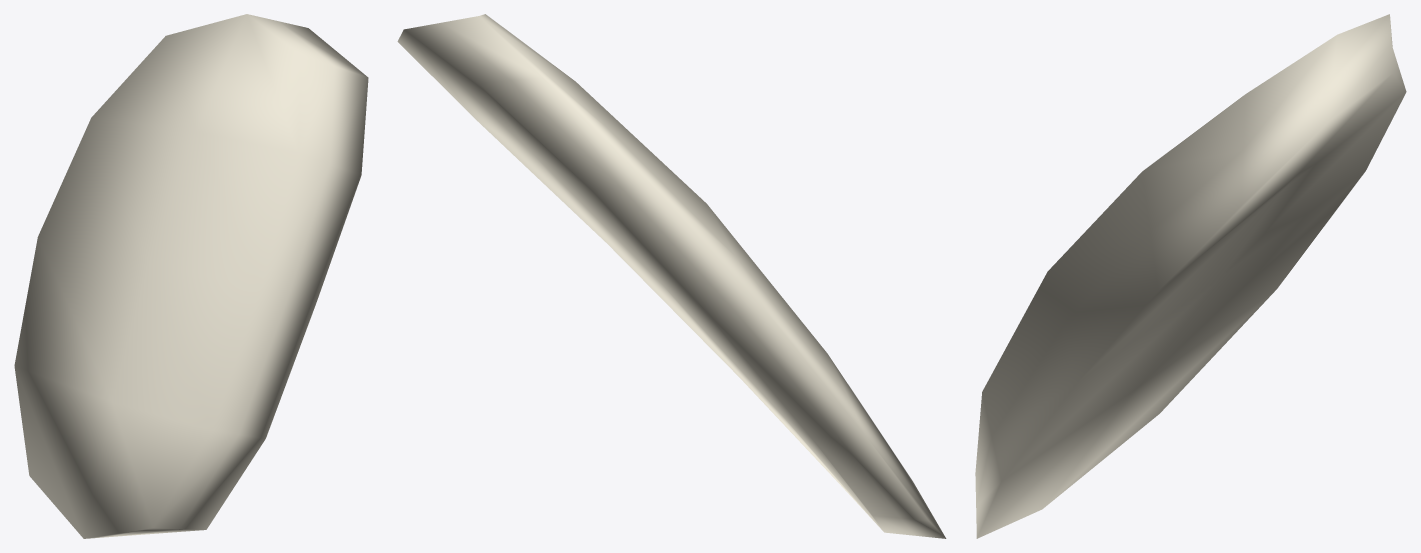
3 views of the same model, side by side, from view 1: azimuth 30°, elevation 25°; view 2: azimuth 150°, elevation 25°; view 3: azimuth 270°, elevation 25° (orthographic). The views are drawn at different scales.
Visible parts, largest first — view 1: ZA_89d356e18ef47216; view 2: ZA_89d356e18ef47216; view 3: ZA_89d356e18ef47216.
Boxes of the visible parts, x1,y1,x2,y2 form: ZA_89d356e18ef47216: [14, 14, 368, 538]; ZA_89d356e18ef47216: [397, 14, 946, 538]; ZA_89d356e18ef47216: [975, 14, 1406, 538].
Size of the model in its own units: 0.00382 by 0.004 by 0.00246.
